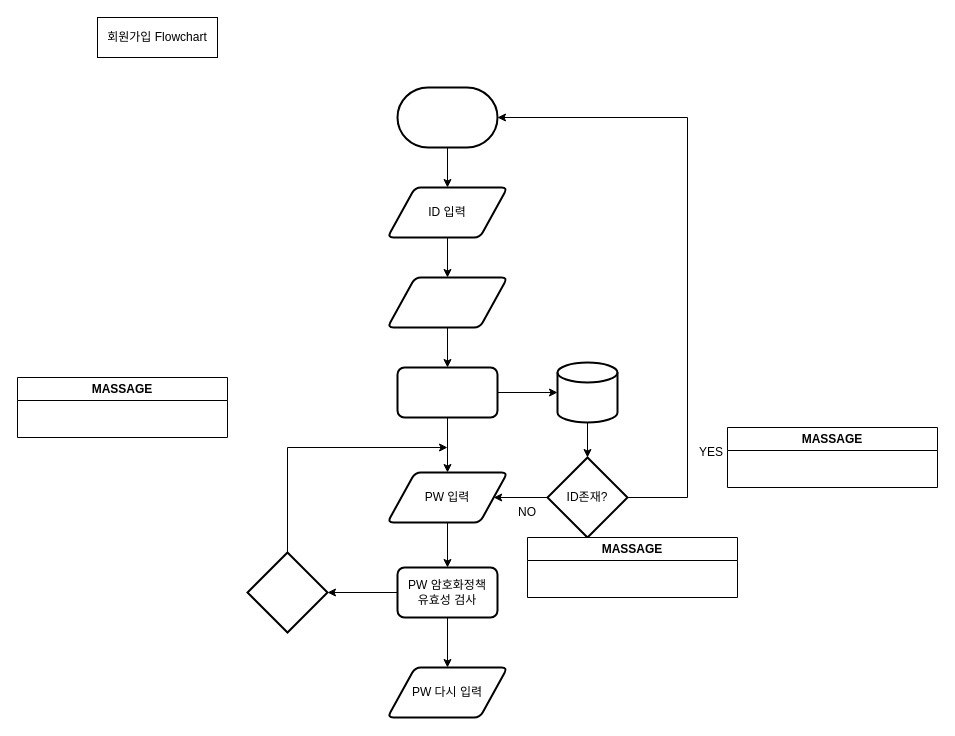
This 955x736 diagram has some shape labels left out. Each missing label, with the centre of its shape:
ID중복 확인: (447,392)
시작: (447,117)
정책을 만족하는지: (287,592)
중복버튼 클릭: (447,302)
회원 TBL: (587,392)
